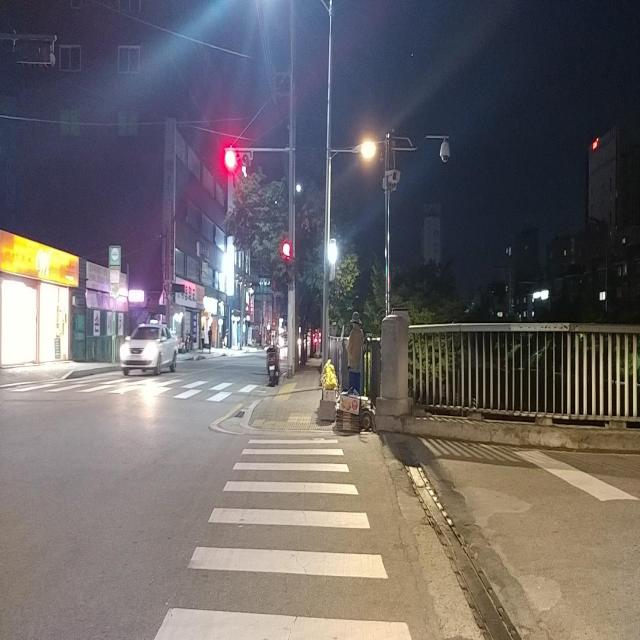횡단보도: (151, 435, 416, 640), (0, 370, 258, 404)
